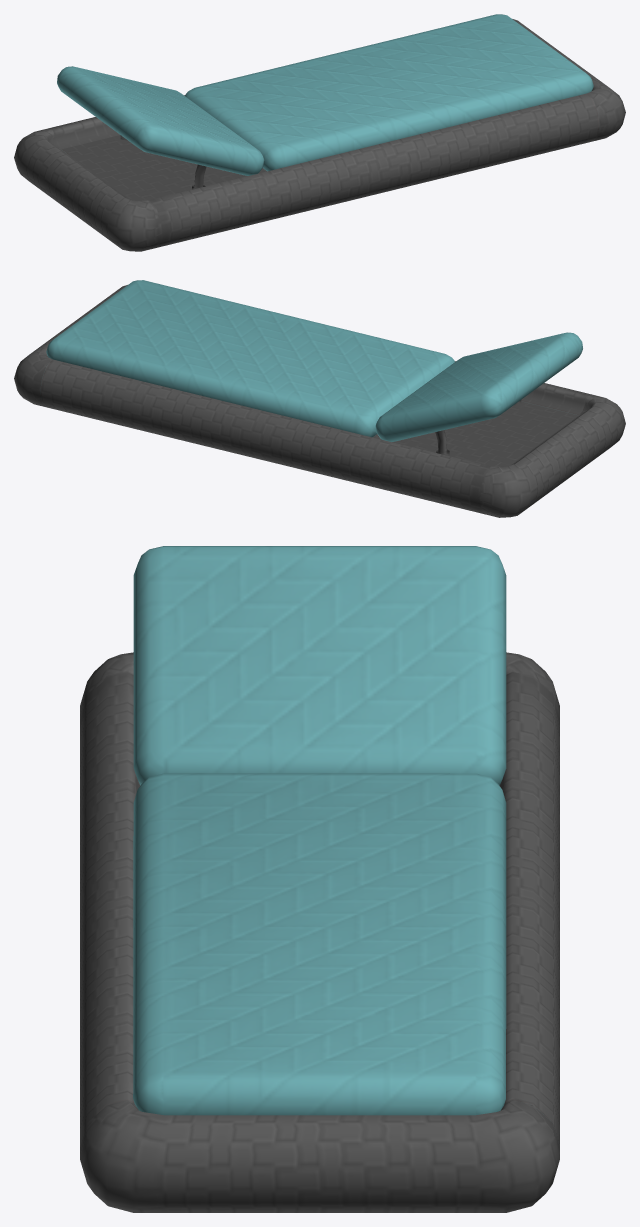
File: PatioChair.glb
3 renders of one model, top to bottom at view 1: azimuth 30°, elevation 25°; view 2: azimuth 150°, elevation 25°; view 3: azimuth 270°, elevation 25°, orthographic. The views are drawn at different scales.
Visible parts, largest first — view 1: poolBed; view 2: poolBed; view 3: poolBed.
Boxes of the visible parts, bbox=[...] form: poolBed: bbox=[14, 14, 625, 251]; poolBed: bbox=[14, 280, 625, 517]; poolBed: bbox=[80, 546, 559, 1212].
Size of what is drawn, in the model's own units: 3.34 by 0.7134 by 1.36.
Materials: 1 (1 with a texture image).
